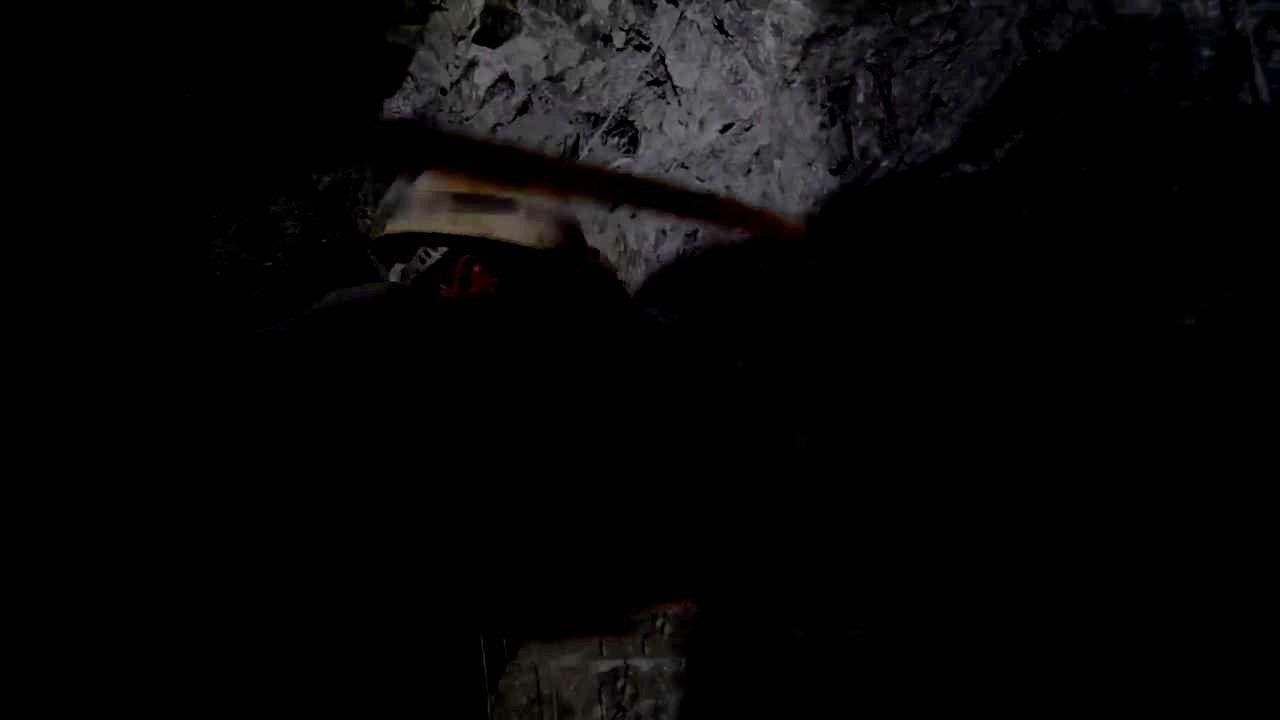helmet: (365, 156, 588, 343)
